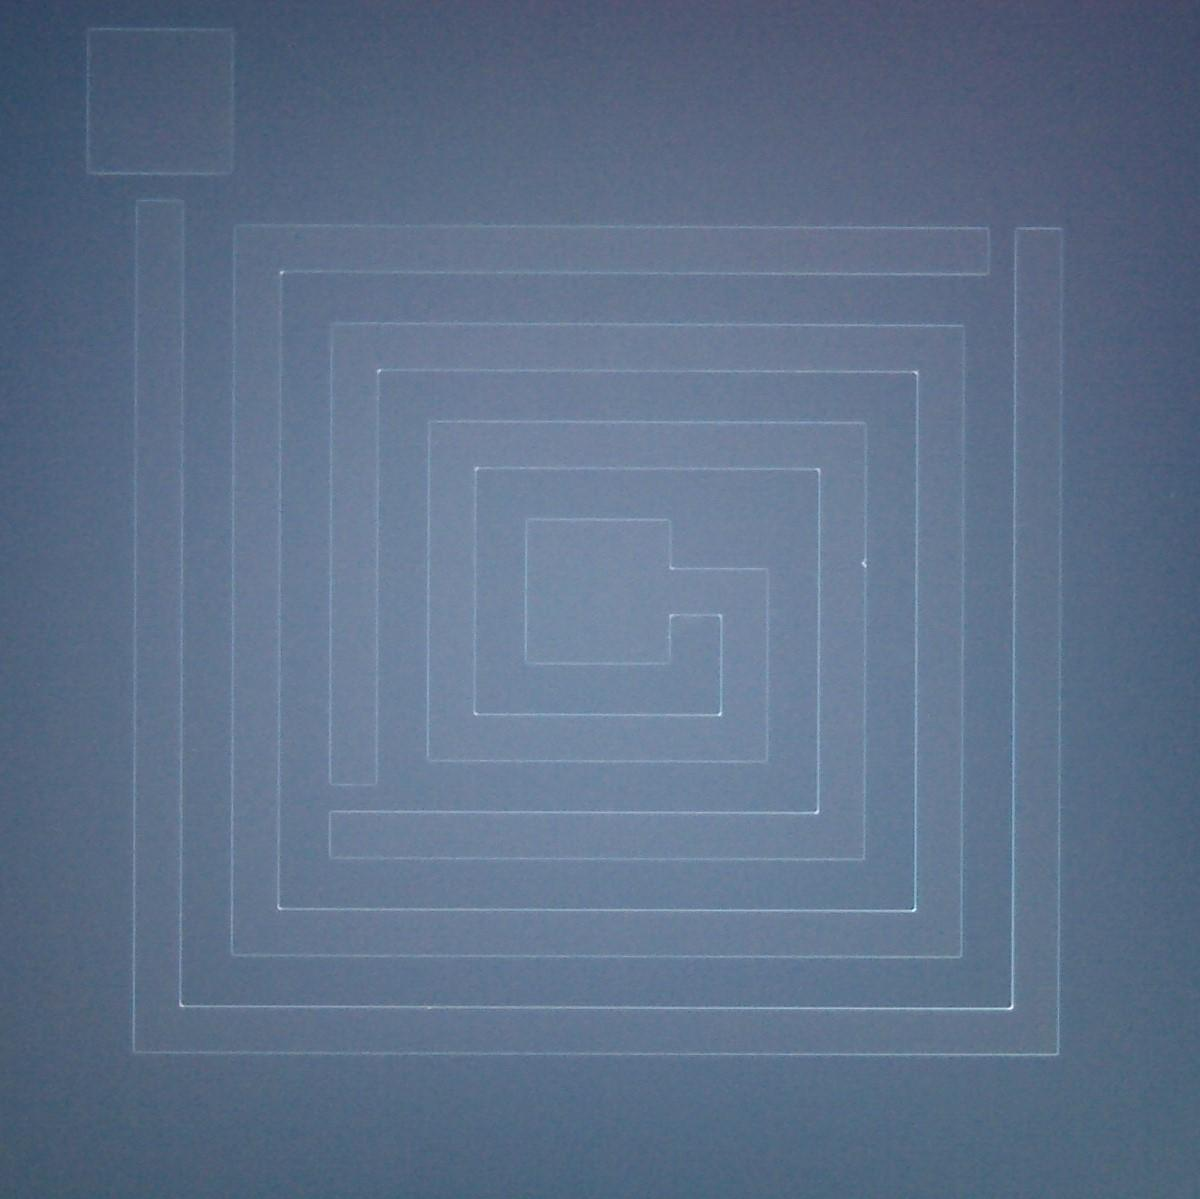cut: (64, 143, 247, 225), (957, 208, 1077, 296), (311, 758, 391, 875)
